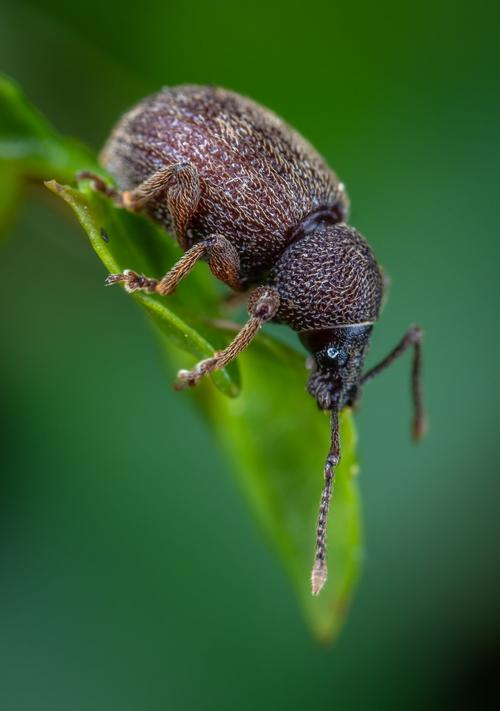Curculionidae: (76, 81, 427, 598)
